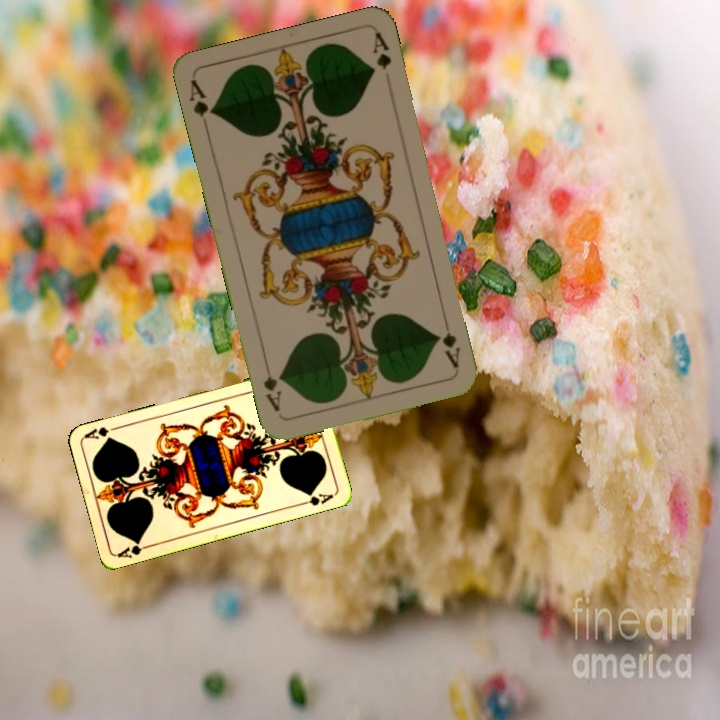GA: (185, 76, 218, 134), (438, 313, 463, 371), (114, 537, 154, 560)
